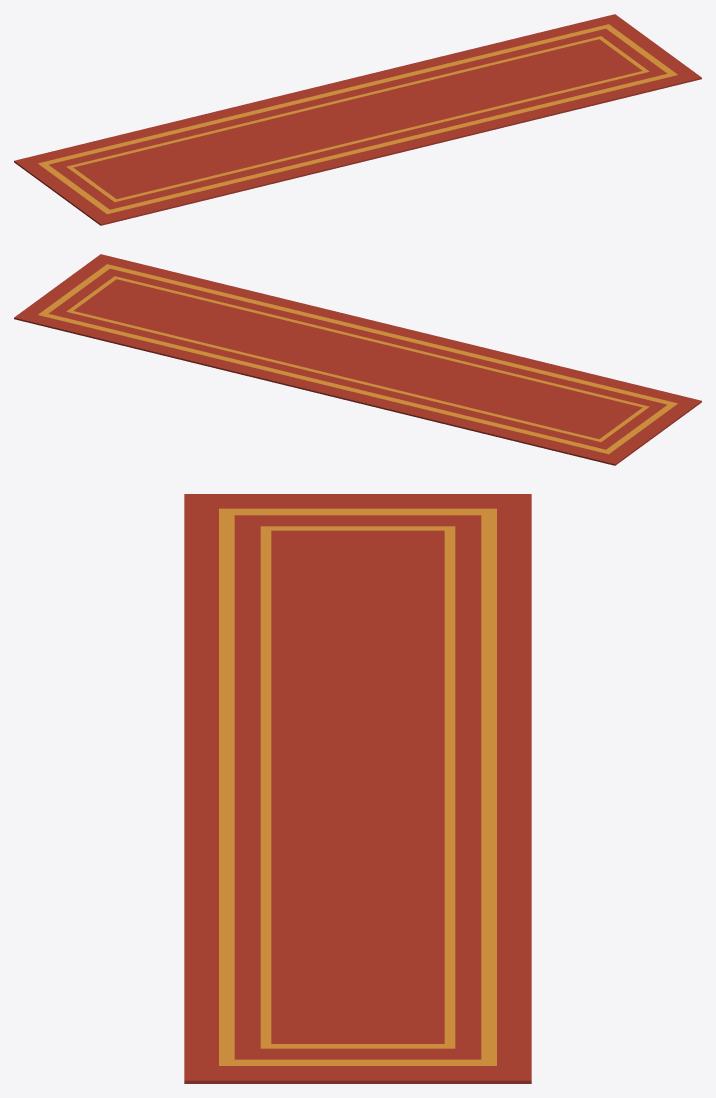
File: Lodge_RunnerRug.fbx
3 views of the same model, one above another, from view 1: azimuth 30°, elevation 25°; view 2: azimuth 150°, elevation 25°; view 3: azimuth 270°, elevation 25° (orthographic). The views are drawn at different scales.
Parts seen in each view (by area): view 1: RugField, RugBorder; view 2: RugField, RugBorder; view 3: RugField, RugBorder.
Part boxes in pixels (x1,y1,x2,y2): RugField: (14,14,701,225); RugBorder: (38,24,677,214); RugField: (14,254,701,465); RugBorder: (38,264,677,454); RugField: (184,494,531,1083); RugBorder: (219,508,496,1065).
Bounding box in the file's own units: 16 × 0.04 × 4.
